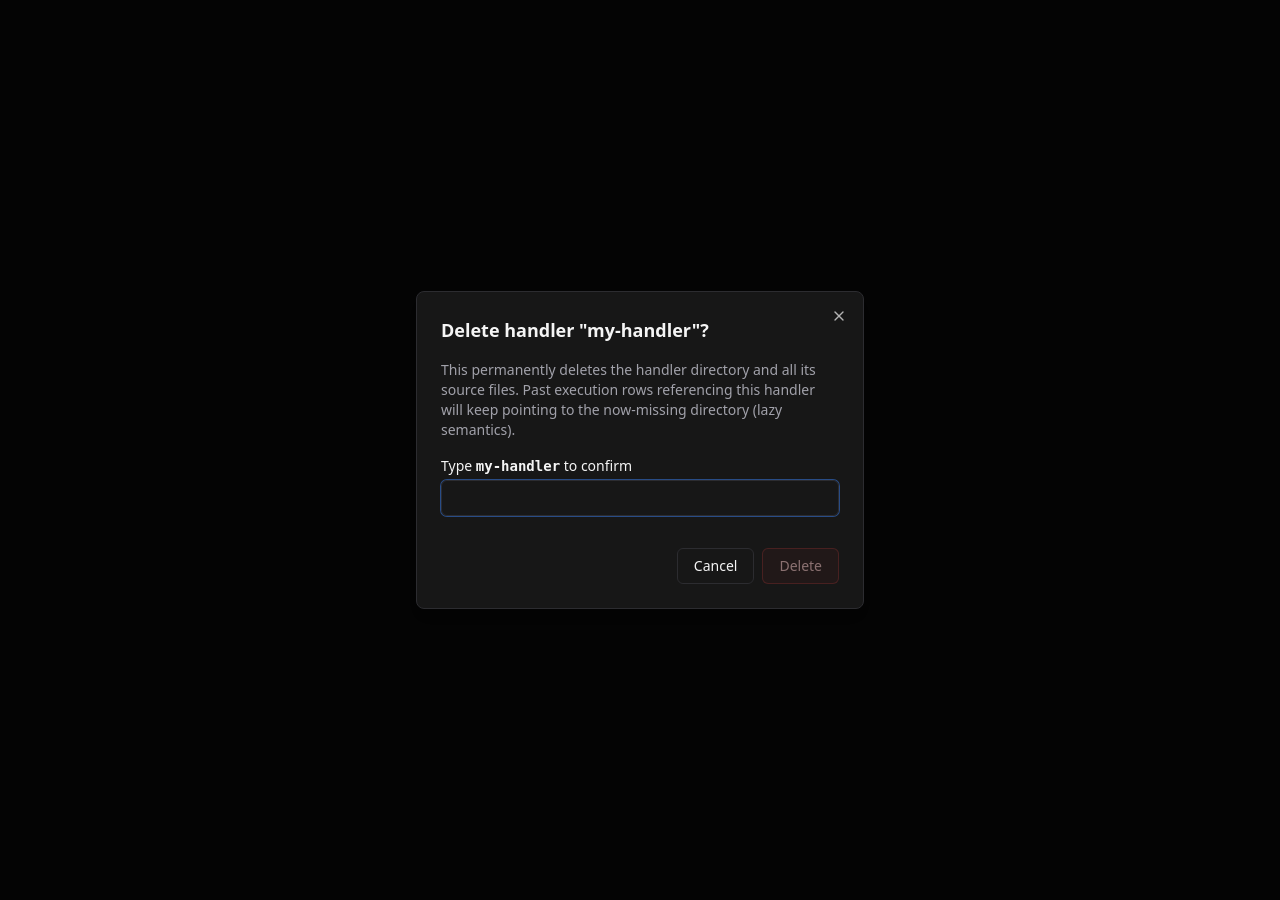
DeleteHandlerDialog › enables the Delete button when token matches exactly
Type "my-handler" into the field labelled "Type my-handler to confirm".
click(640, 498); type("my-handler")  # box [441,480,839,516]
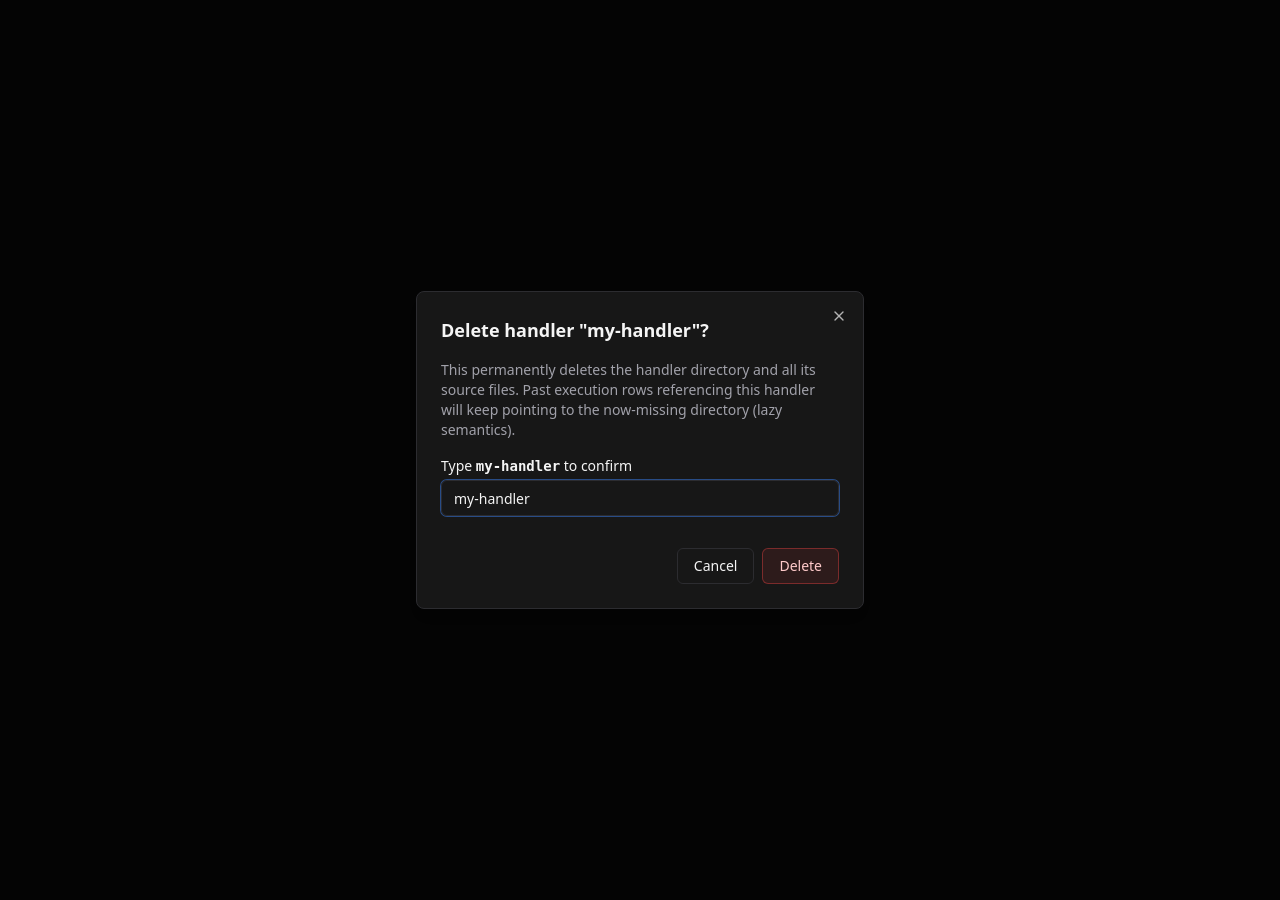
Now the button "Delete" is enabled, box [762,548,839,584]
